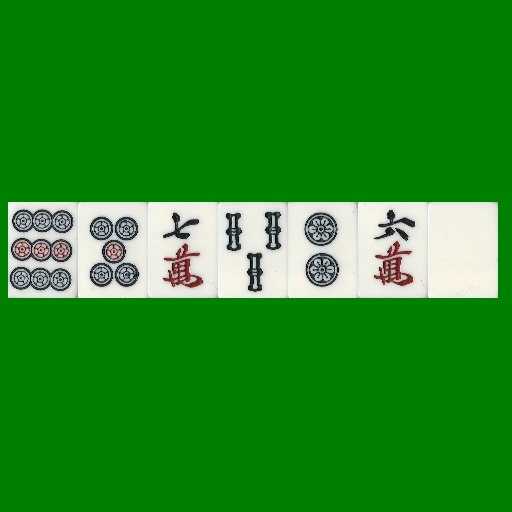2p: (288, 202, 358, 298)
3s: (218, 202, 288, 298)
5p: (78, 202, 148, 298)
6m: (358, 202, 428, 298)
7m: (148, 202, 218, 298)
9p: (8, 202, 78, 298)
white: (428, 202, 498, 298)
